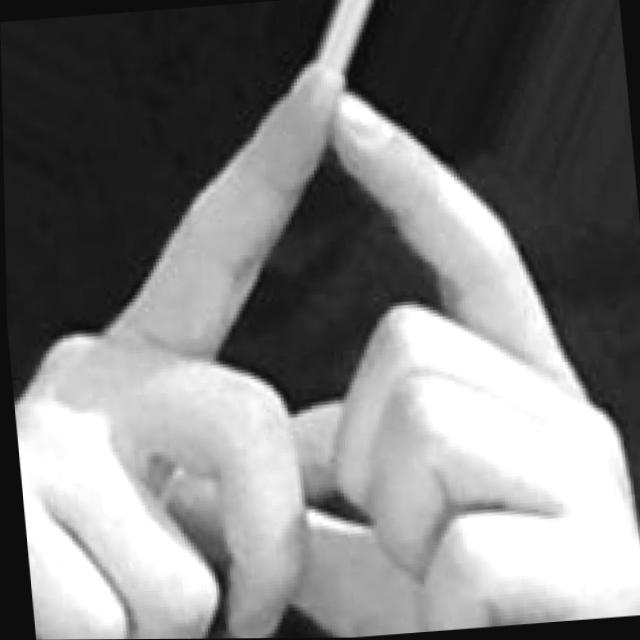D: (1, 37, 640, 640)
